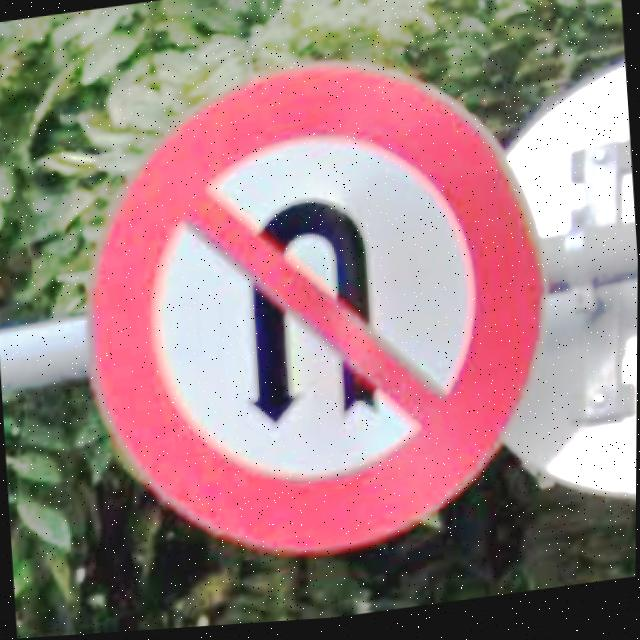nouturn: (88, 70, 545, 561)
